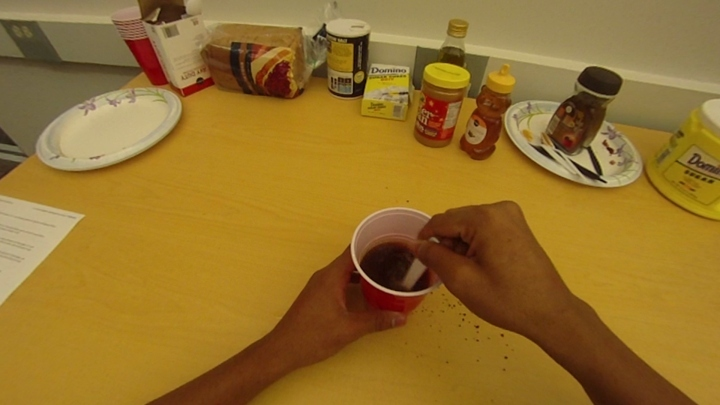hand: (401, 202, 564, 329), (279, 240, 406, 353)
